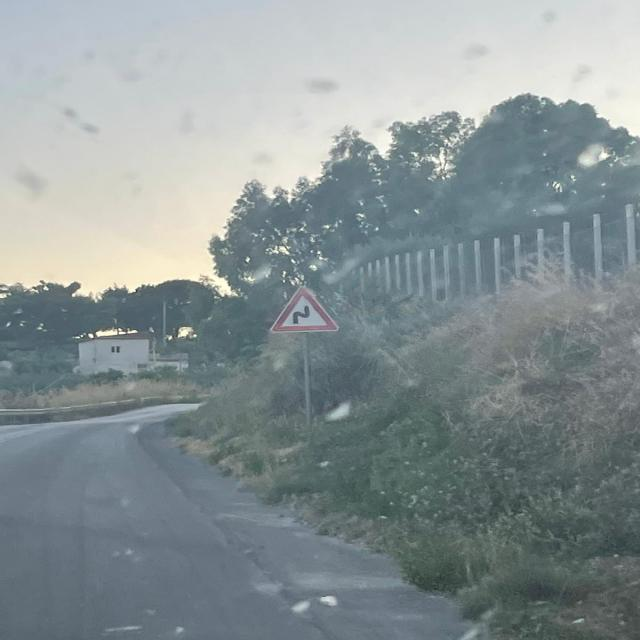warn_double_curve: (268, 285, 340, 335)
